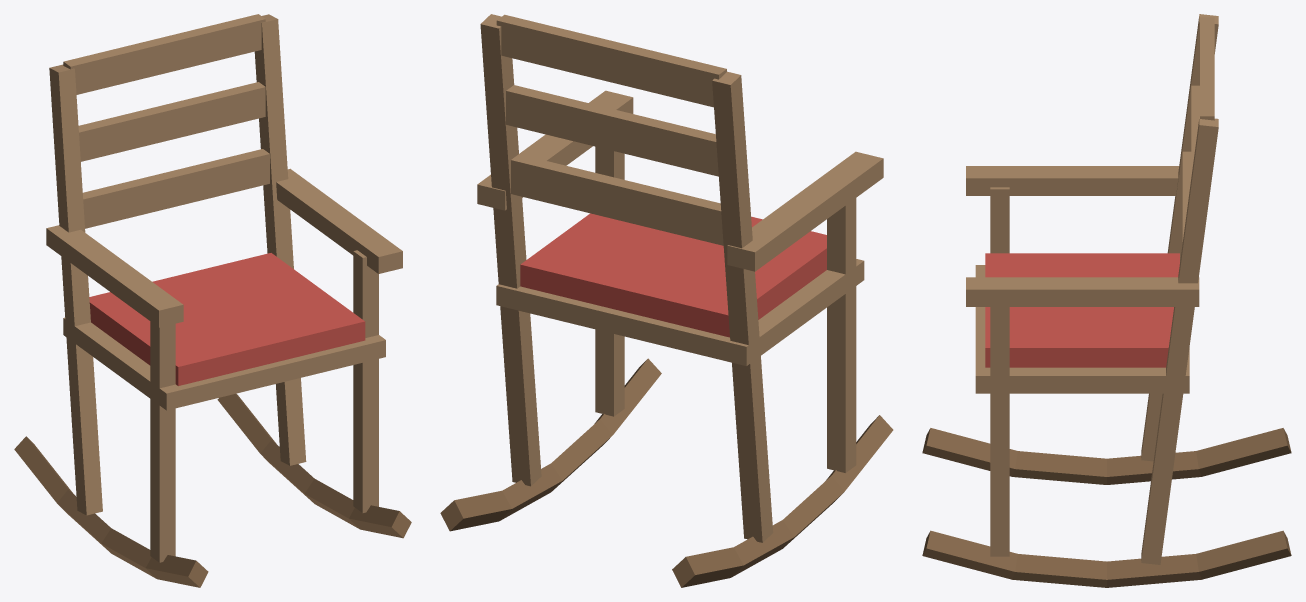
File: SM_Rocking_Chair.glb
3 views of the same model, side by side, from view 1: azimuth 30°, elevation 25°; view 2: azimuth 150°, elevation 25°; view 3: azimuth 270°, elevation 25° (orthographic). The views are drawn at different scales.
Parts seen in each view (by area): view 1: SM_Rocking_Chair; view 2: SM_Rocking_Chair; view 3: SM_Rocking_Chair.
Boxes of the visible parts, x1,y1,x2,y2 form: SM_Rocking_Chair: (14,14,411,587); SM_Rocking_Chair: (440,14,893,587); SM_Rocking_Chair: (922,14,1291,587).
Size of the model in its own units: 0.6 by 1.06 by 0.7587.
